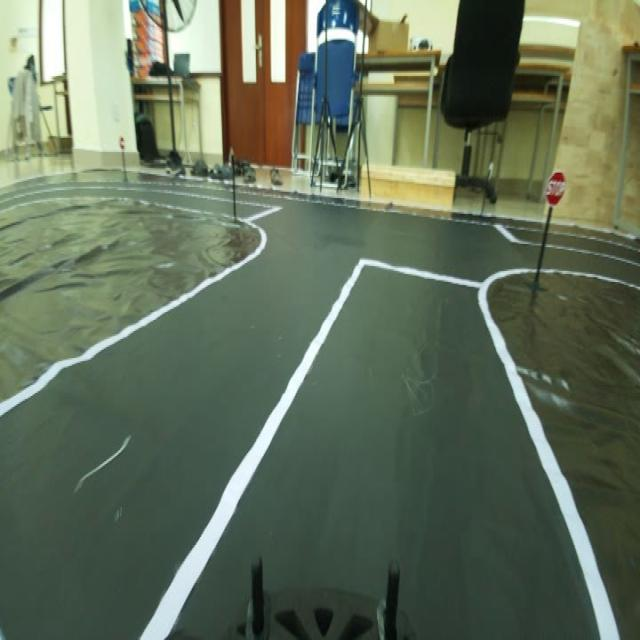stop: (540, 166, 574, 209)
